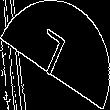L_SW: (35, 25, 75, 85)
